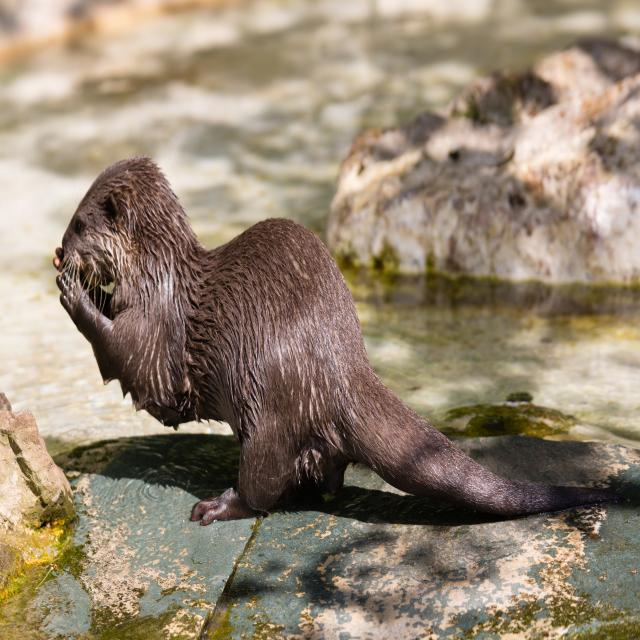otter: (56, 156, 536, 523)
